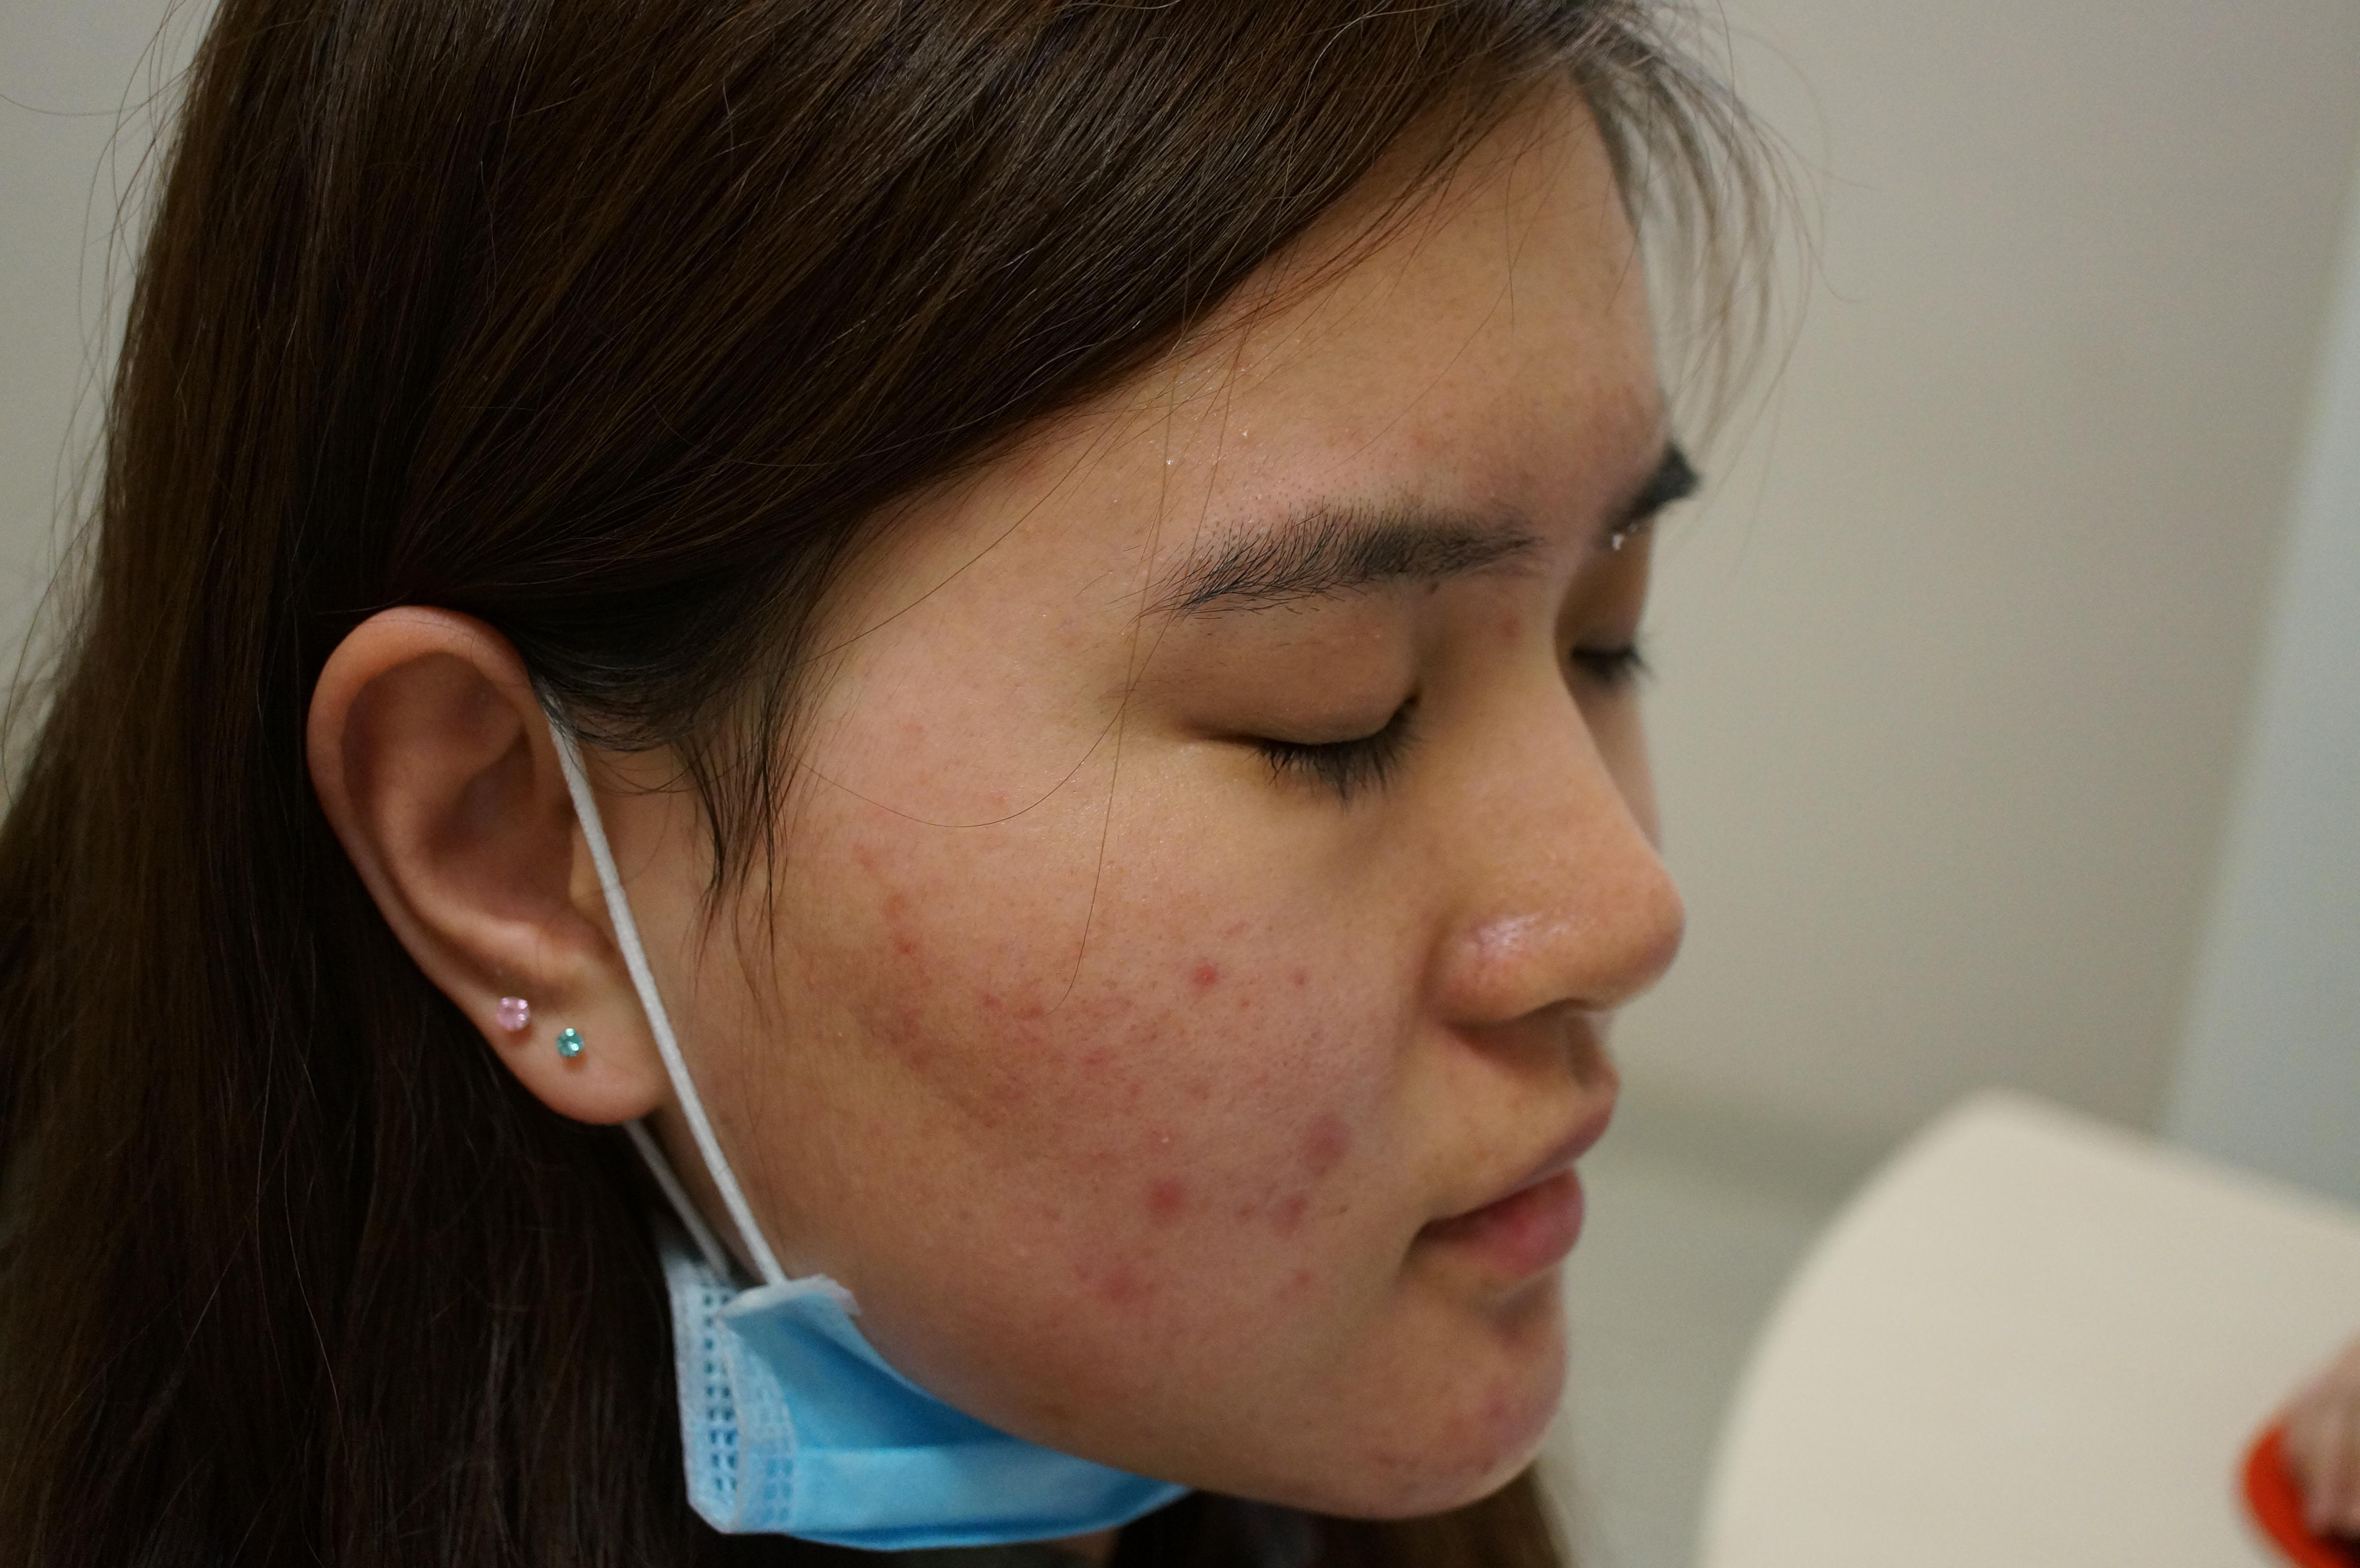fore: (1274, 1076, 1377, 1176), (1184, 924, 1268, 1032), (1118, 1129, 1197, 1241), (866, 980, 932, 1080), (1428, 1372, 1492, 1452), (1233, 1172, 1300, 1241)
